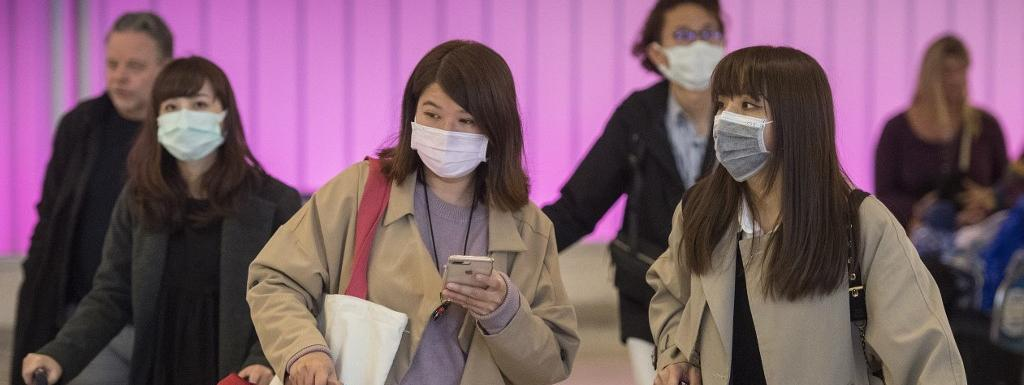with_mask: (410, 79, 494, 182), (713, 92, 783, 184), (156, 79, 228, 164), (650, 12, 722, 87)
without_mask: (106, 35, 154, 116)
